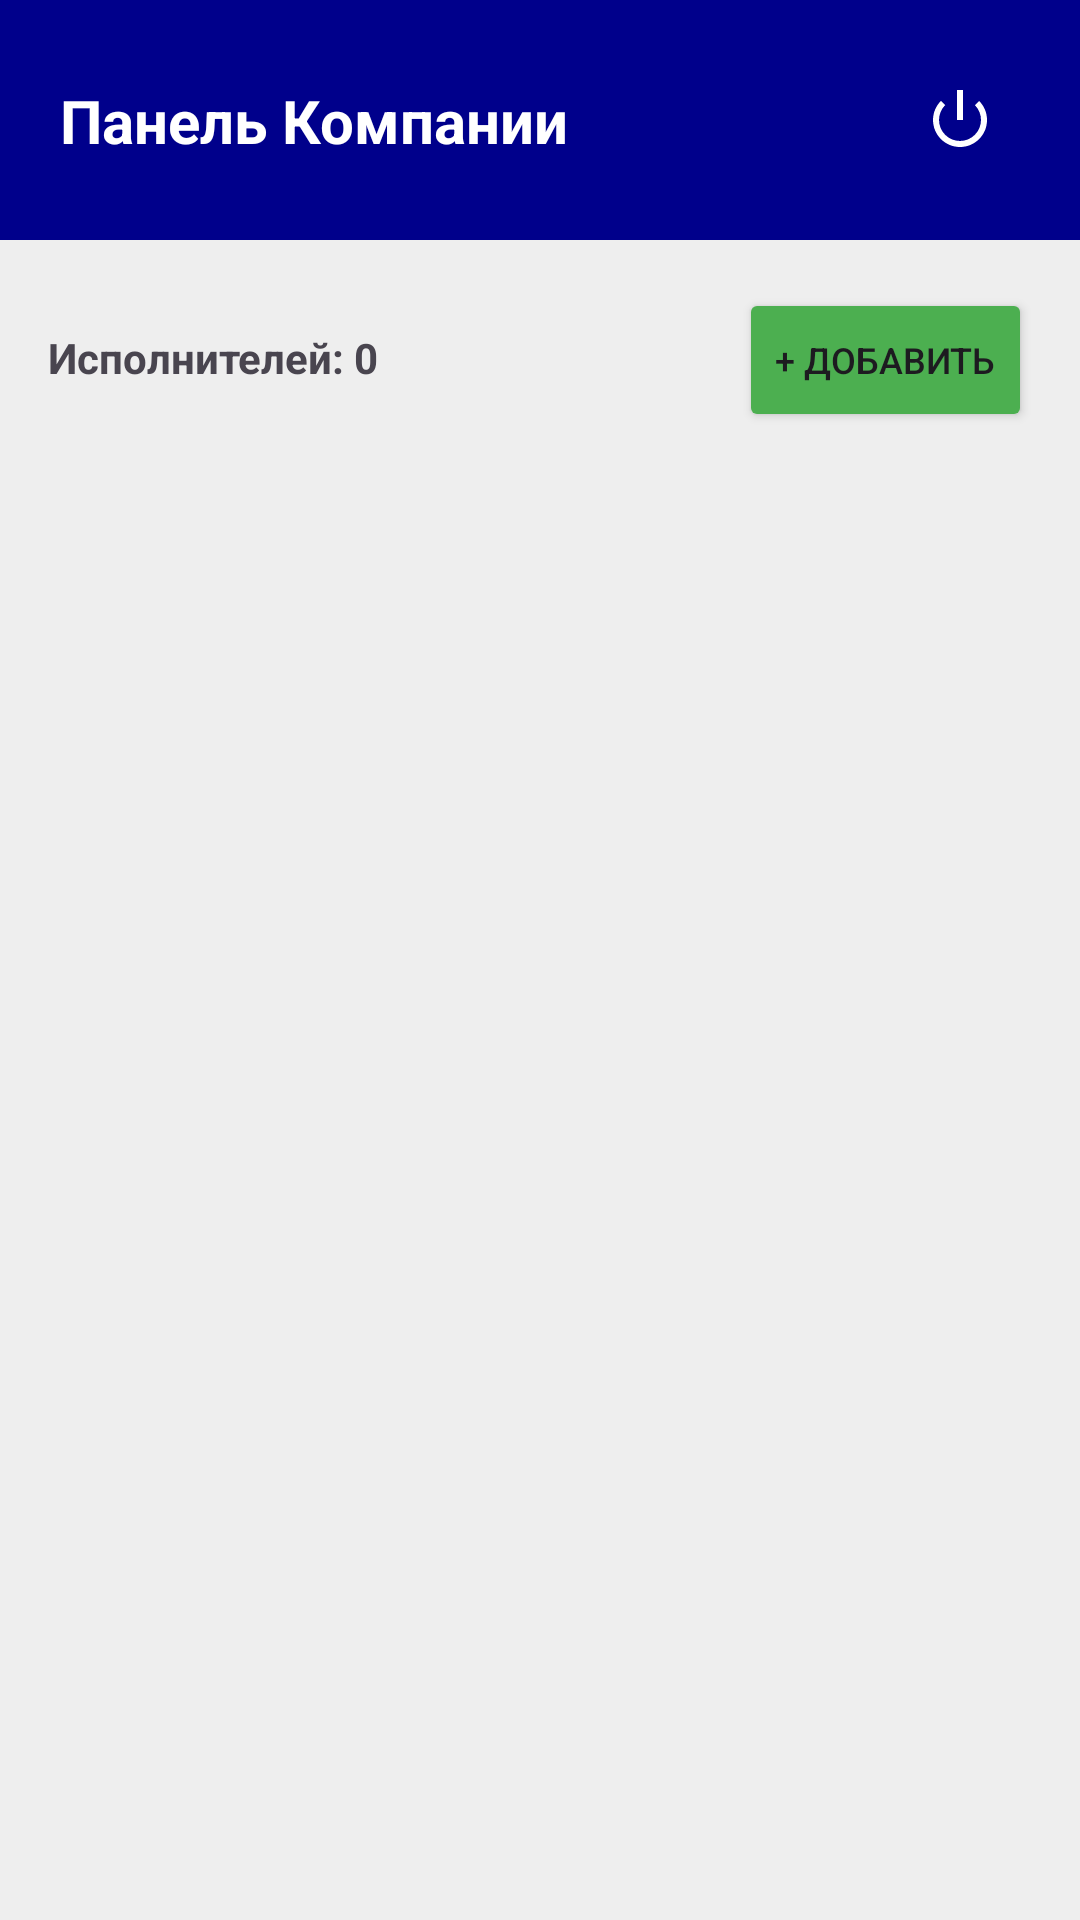

Named icons in this screenshot (1080×1920) and their centers, point (x, y):
lock power off: point (960, 118)
